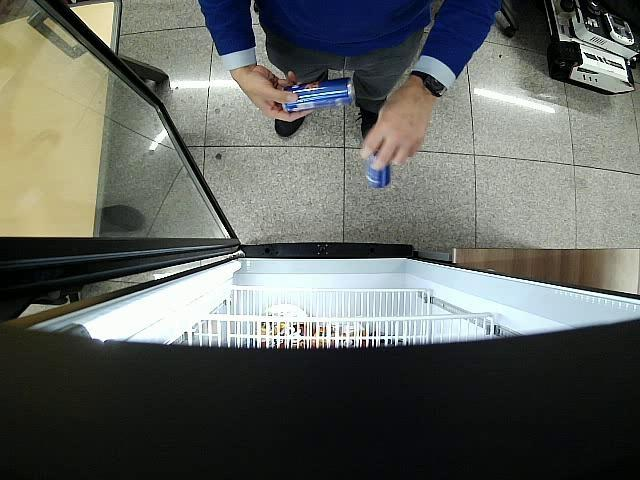16_hot6: (280, 76, 354, 112), (366, 149, 390, 189)
